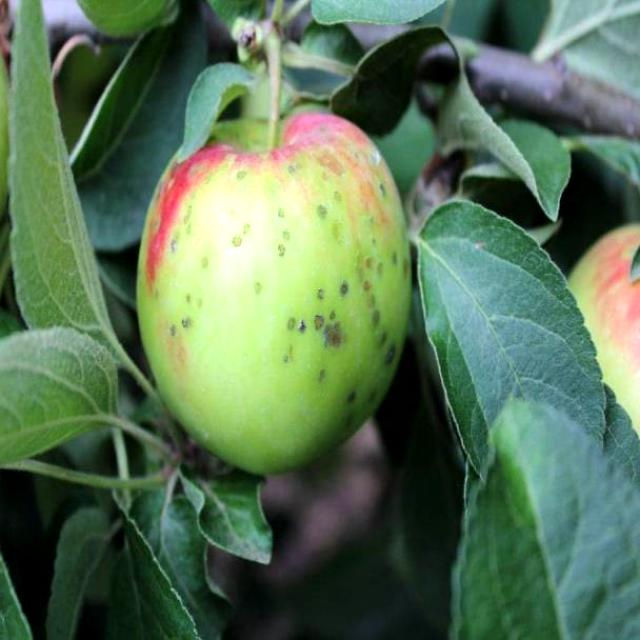SCAB: (120, 99, 463, 490)
